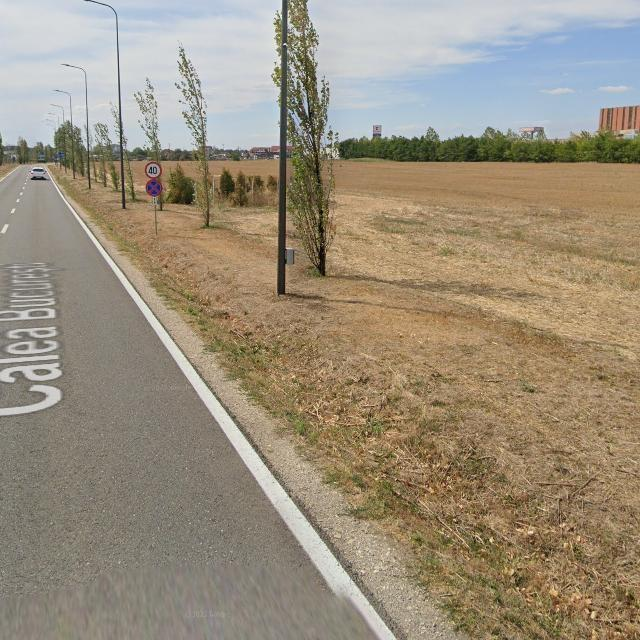forb_speed_over_40: (146, 162, 162, 180)
forb_waiting: (146, 181, 162, 197)
